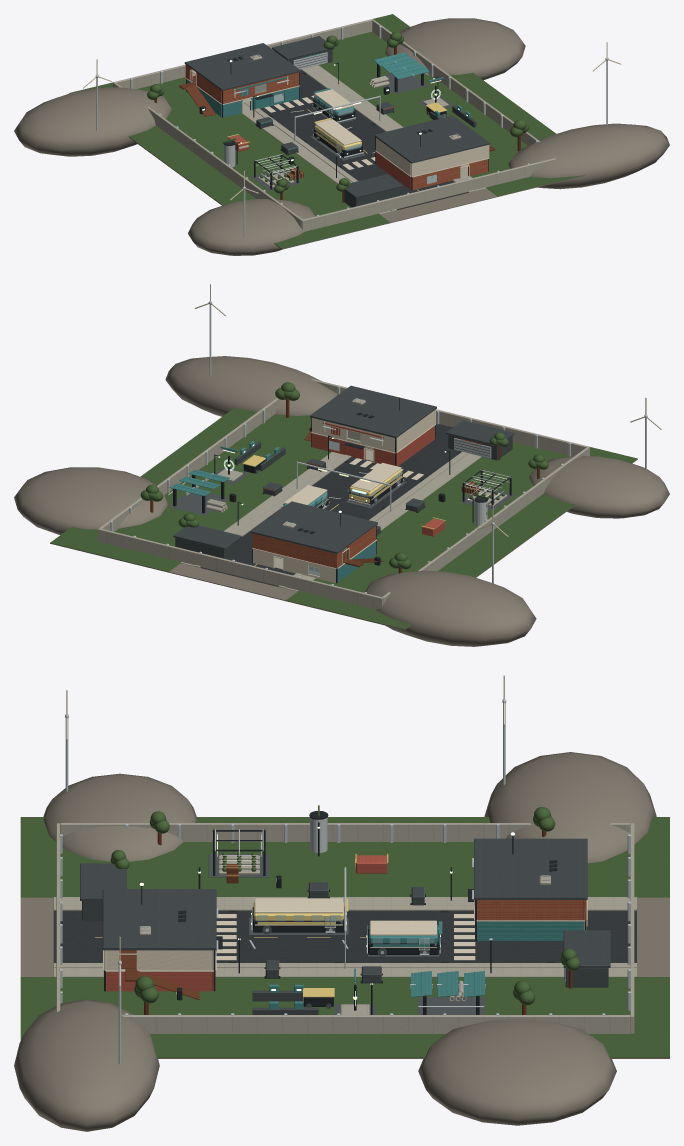
File: atomic-acres-blender-arena.glb
3 renders of one model, top to bottom at view 1: azimuth 30°, elevation 25°; view 2: azimuth 150°, elevation 25°; view 3: azimuth 270°, elevation 25°, orthographic. The views are drawn at different scales.
Visible parts, largest first — view 1: BLD_BATCH_MAT_earth_edge, BLD_BATCH_MAT_ground_olive, BLD_BATCH_MAT_boundary_warm_concrete, BLD_BATCH_MAT_roof_shingles, BLD_BATCH_MAT_asphalt_charcoal, BLD_BATCH_MAT_concrete_weathered, BLD_BATCH_MAT_aqua_oxidized, BLD_BATCH_MAT_brushed_alloy, BLD_BATCH_MAT_trim_bone, BLD_BATCH_MAT_gunmetal, BLD_BATCH_MAT_coral_upper_plaster, BLD_BATCH_MAT_concrete_dark (+7 smaller); view 2: BLD_BATCH_MAT_earth_edge, BLD_BATCH_MAT_ground_olive, BLD_BATCH_MAT_boundary_warm_concrete, BLD_BATCH_MAT_roof_shingles, BLD_BATCH_MAT_concrete_weathered, BLD_BATCH_MAT_asphalt_charcoal, BLD_BATCH_MAT_brushed_alloy, BLD_BATCH_MAT_trim_bone, BLD_BATCH_MAT_gunmetal, BLD_BATCH_MAT_concrete_dark, BLD_BATCH_MAT_coral_oxide, BLD_BATCH_MAT_aqua_upper_brick (+7 smaller); view 3: BLD_BATCH_MAT_earth_edge, BLD_BATCH_MAT_ground_olive, BLD_BATCH_MAT_roof_shingles, BLD_BATCH_MAT_boundary_warm_concrete, BLD_BATCH_MAT_asphalt_charcoal, BLD_BATCH_MAT_concrete_weathered, BLD_BATCH_MAT_trim_bone, BLD_BATCH_MAT_aqua_oxidized, BLD_BATCH_MAT_brushed_alloy, BLD_BATCH_MAT_gunmetal, BLD_BATCH_MAT_concrete_dark, BLD_BATCH_MAT_rubber (+7 smaller).
Part boxes in pixels (box(x1,y1,x2,y2)): BLD_BATCH_MAT_earth_edge: box(14, 18, 669, 255); BLD_BATCH_MAT_ground_olive: box(69, 14, 585, 248); BLD_BATCH_MAT_boundary_warm_concrete: box(113, 19, 555, 231); BLD_BATCH_MAT_roof_shingles: box(184, 36, 490, 198); BLD_BATCH_MAT_asphalt_charcoal: box(260, 69, 468, 209); BLD_BATCH_MAT_concrete_weathered: box(241, 65, 486, 214); BLD_BATCH_MAT_aqua_oxidized: box(186, 52, 470, 150); BLD_BATCH_MAT_brushed_alloy: box(95, 26, 608, 237); BLD_BATCH_MAT_trim_bone: box(83, 42, 621, 200); BLD_BATCH_MAT_gunmetal: box(186, 54, 488, 190); BLD_BATCH_MAT_coral_upper_plaster: box(376, 138, 489, 176); BLD_BATCH_MAT_concrete_dark: box(256, 49, 476, 207); BLD_BATCH_MAT_earth_edge: box(14, 356, 669, 646); BLD_BATCH_MAT_ground_olive: box(50, 408, 637, 629); BLD_BATCH_MAT_boundary_warm_concrete: box(98, 378, 589, 609); BLD_BATCH_MAT_roof_shingles: box(173, 385, 514, 553); BLD_BATCH_MAT_concrete_weathered: box(181, 441, 507, 591); BLD_BATCH_MAT_asphalt_charcoal: box(200, 423, 459, 586); BLD_BATCH_MAT_brushed_alloy: box(110, 301, 647, 593); BLD_BATCH_MAT_trim_bone: box(194, 284, 661, 571); BLD_BATCH_MAT_gunmetal: box(173, 397, 511, 583); BLD_BATCH_MAT_concrete_dark: box(175, 435, 512, 559); BLD_BATCH_MAT_coral_oxide: box(263, 422, 482, 536); BLD_BATCH_MAT_aqua_upper_brick: box(252, 526, 375, 568); BLD_BATCH_MAT_earth_edge: box(14, 752, 669, 1131); BLD_BATCH_MAT_ground_olive: box(20, 817, 669, 1057); BLD_BATCH_MAT_roof_shingles: box(80, 838, 610, 967); BLD_BATCH_MAT_boundary_warm_concrete: box(56, 823, 634, 1033); BLD_BATCH_MAT_asphalt_charcoal: box(53, 910, 636, 962); BLD_BATCH_MAT_concrete_weathered: box(53, 855, 636, 1001); BLD_BATCH_MAT_trim_bone: box(66, 675, 587, 986); BLD_BATCH_MAT_aqua_oxidized: box(269, 883, 583, 1009); BLD_BATCH_MAT_brushed_alloy: box(59, 699, 631, 1064); BLD_BATCH_MAT_gunmetal: box(104, 811, 586, 1014); BLD_BATCH_MAT_concrete_dark: box(82, 882, 608, 1014); BLD_BATCH_MAT_rubber: box(208, 854, 484, 1014).
Bounding box in the file's own units: 130 × 30.64 × 99.01.
Materials: 29 (20 with a texture image).
